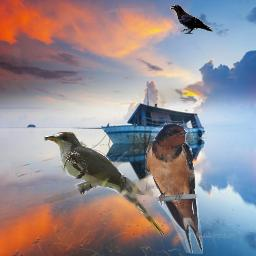Crow: (170, 5, 213, 34)
Cuckoo: (44, 132, 164, 235)
Swallow: (145, 123, 203, 254)
